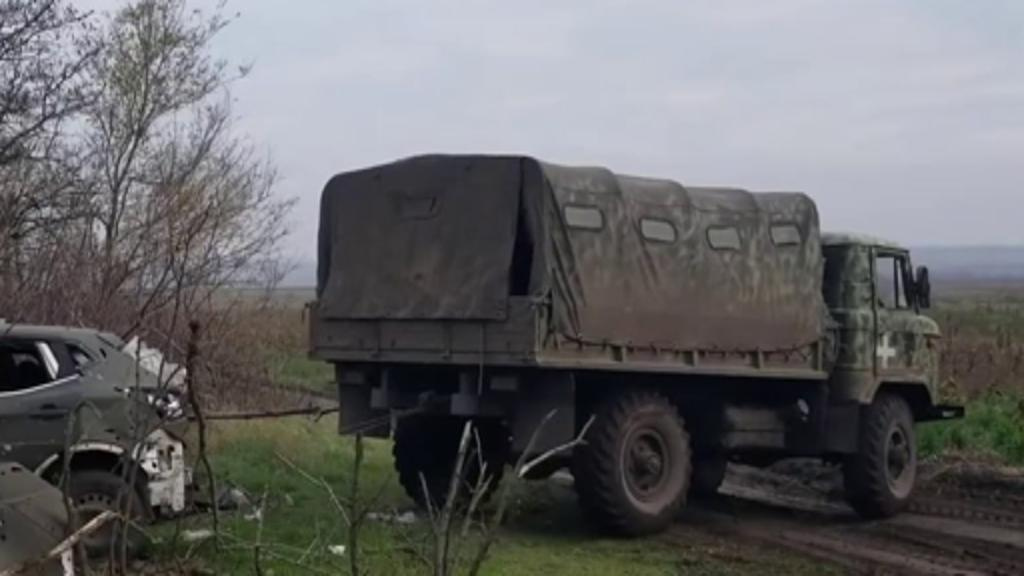CAR: (0, 310, 194, 568)
TRUCK: (308, 154, 950, 536)
